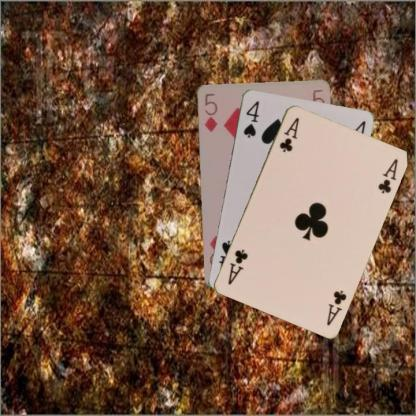4s: (240, 98, 260, 138)
5d: (202, 90, 218, 134)
Ac: (276, 114, 301, 154), (323, 287, 348, 327)
